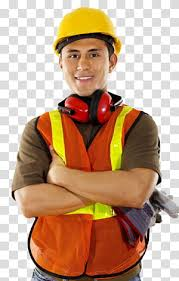Person_wearing_helmet: (51, 2, 124, 63)
